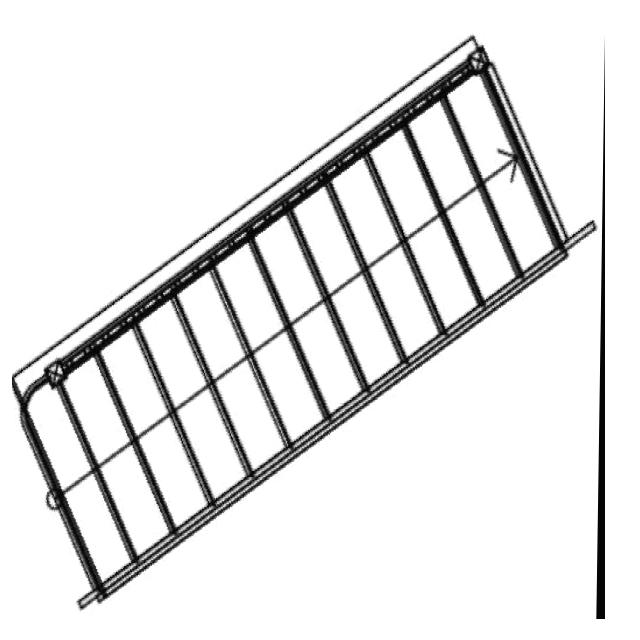stair: (12, 32, 605, 619)
